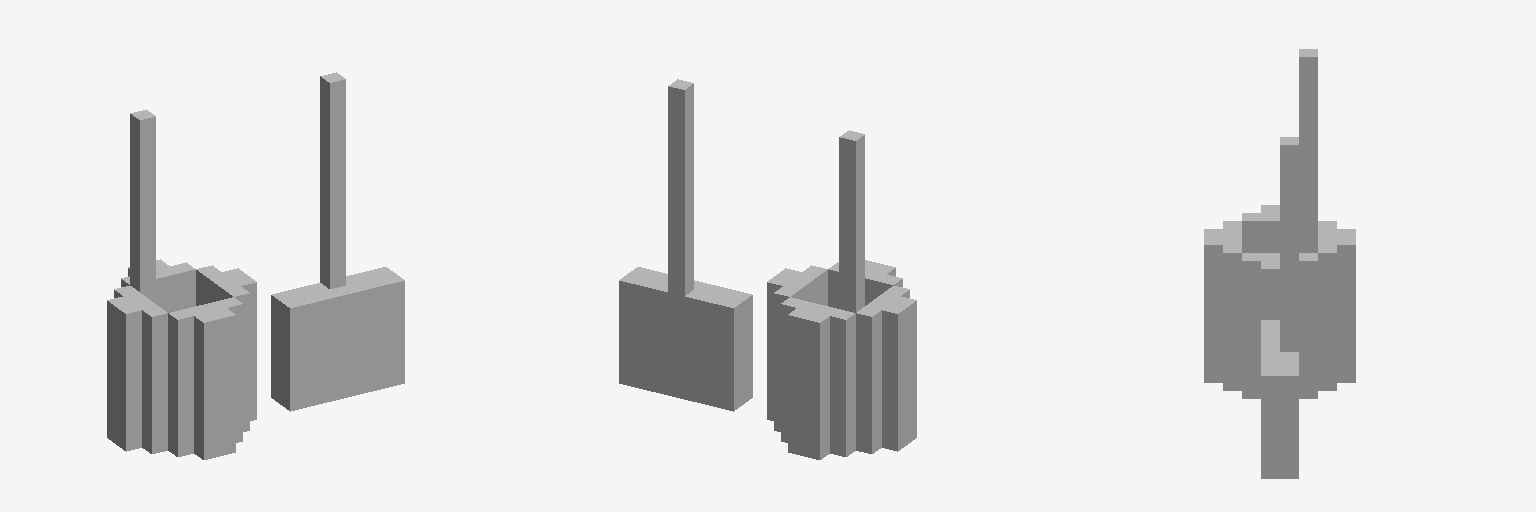
File: cleaning stuff.obj
The picture shows the model from 3 angles: view 1: azimuth 30°, elevation 25°; view 2: azimuth 150°, elevation 25°; view 3: azimuth 270°, elevation 25°; orthographic projection.
Visible parts, largest first — view 1: object 1; view 2: object 1; view 3: object 1.
Part boxes in pixels (bbox=[...]): object 1: bbox=[107, 72, 404, 459]; object 1: bbox=[619, 79, 916, 459]; object 1: bbox=[1204, 49, 1355, 478].
Bounding box in the file's own units: 1.7 × 1.8 × 0.8.